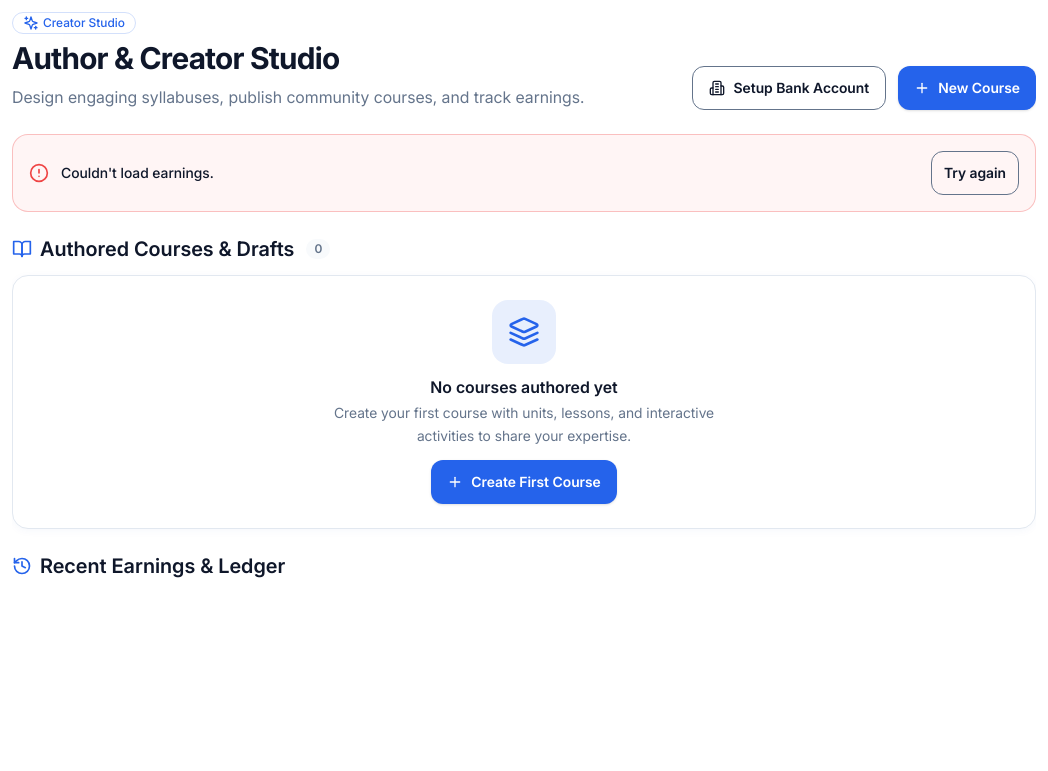
Scenario: CreatorDashboard › keeps course management when earnings fail and retries that section only
Check: the message shows "Couldn't load earnings.", box [61,164,214,180]
Check: the button "Create First Course" is shown, box [431,460,617,504]
What coordinates should you click on to do the following:
click the button "Try again"
I would click on:
 (975, 172)
Its box is [931,150,1019,194].
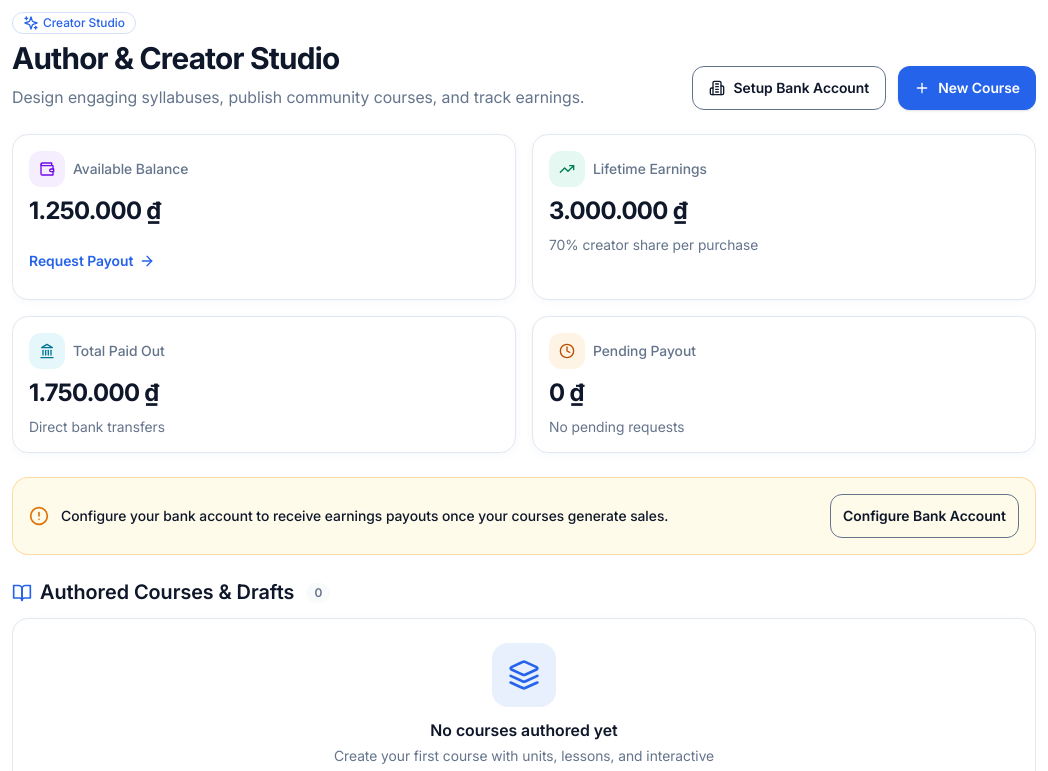
Check: the text "1.250.000 ₫" is shown, box [29,196,161,224]
